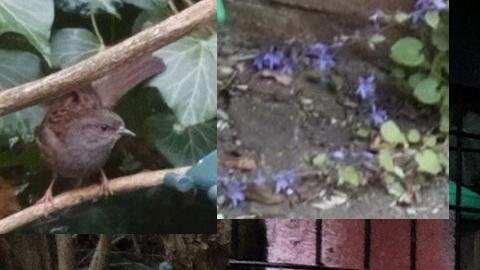dunnock: (34, 50, 167, 218)
